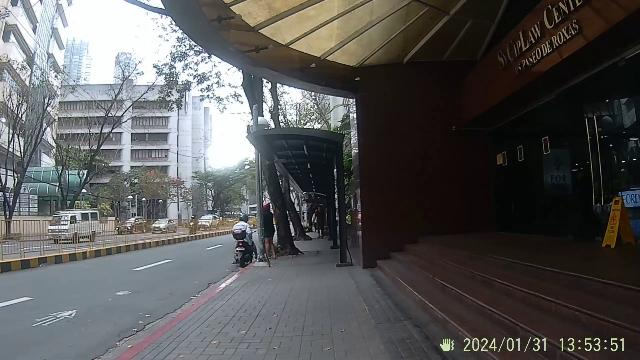tree: (262, 160, 302, 256)
